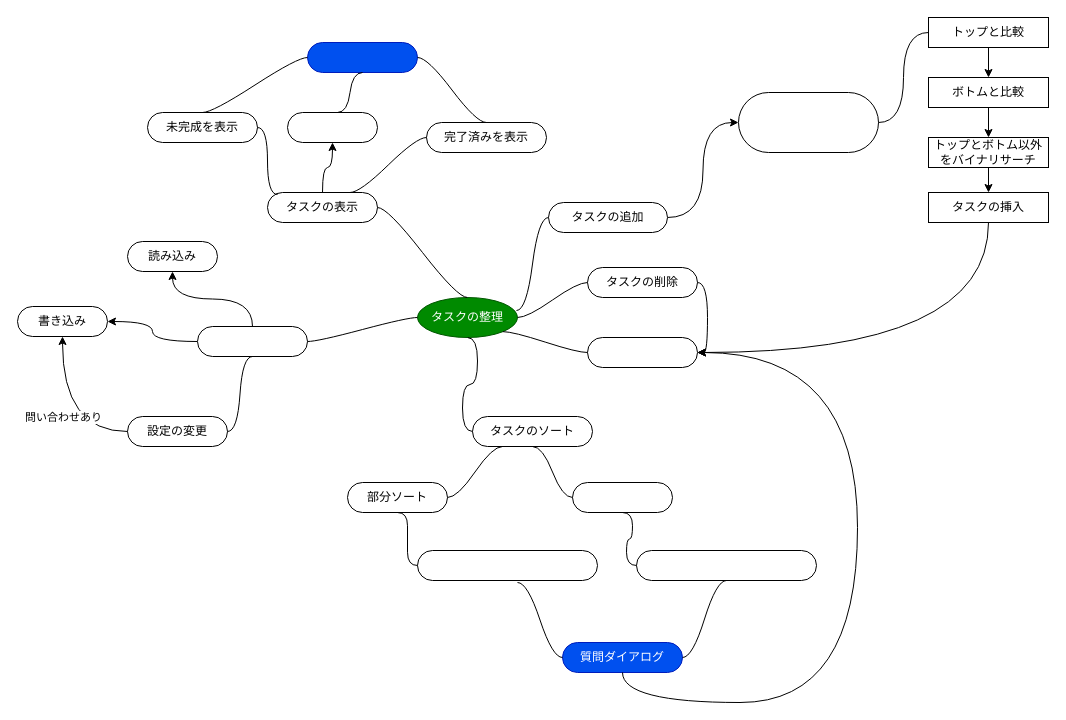
This 1066x720 diagram has some shape labels left out. Here are the shapes that lost their labels. From the top down, the centre of each, then its label:
At (362,57): "テーブル表示".
At (332,127): "全て表示".
At (808,122): "カスタム バイナリサーチで 挿入先を検索".
At (252,341): "設定ファイル".
At (642,352): "タスクの保存".
At (622,497): "全体ソート".
At (507,565): "主観的な質問によるソード".
At (726,565): "客観的な質問によるソート".
